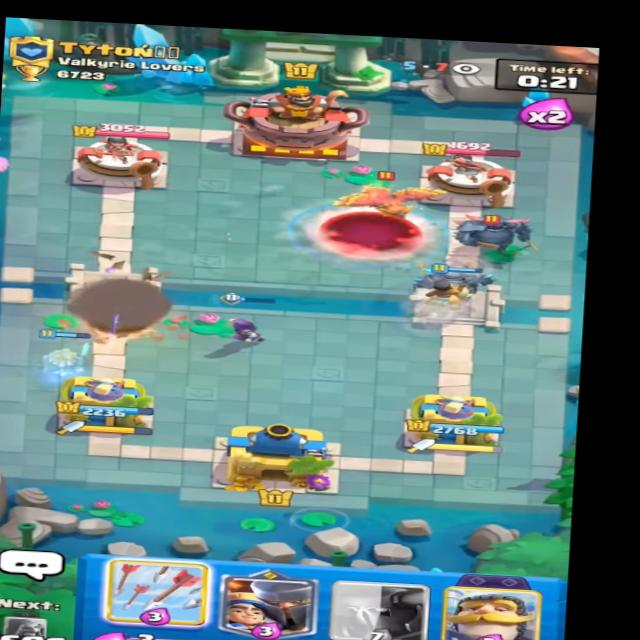pekka: (453, 206, 545, 251)
phoenix: (334, 172, 456, 223)
